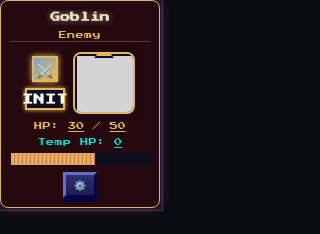
Scenario: NpcCard › Name Editing › a single tap opens the editor seeded with the current name
Click the text "Goblin" at (80, 17), box [50,12,110,22]
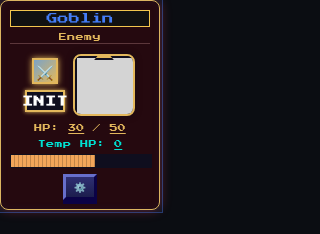
expect the field holds "Goblin": met, box [10,10,150,27]
